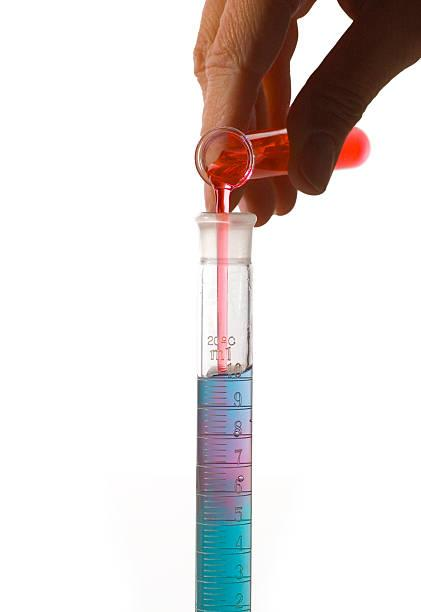Test tube: (195, 203, 261, 610), (165, 97, 384, 184)
